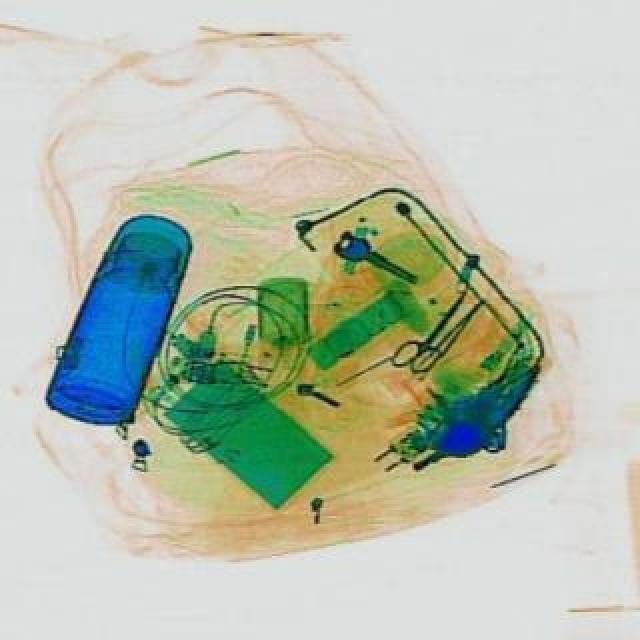pliers: (384, 280, 480, 380)
